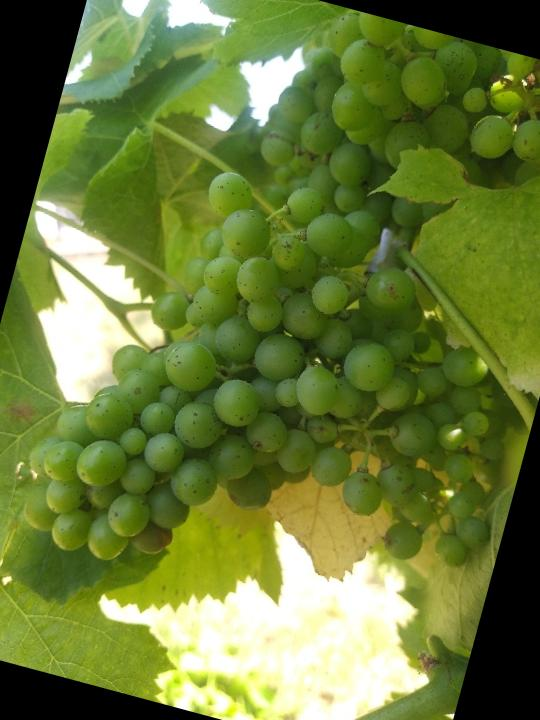grape: (2, 133, 540, 659)
